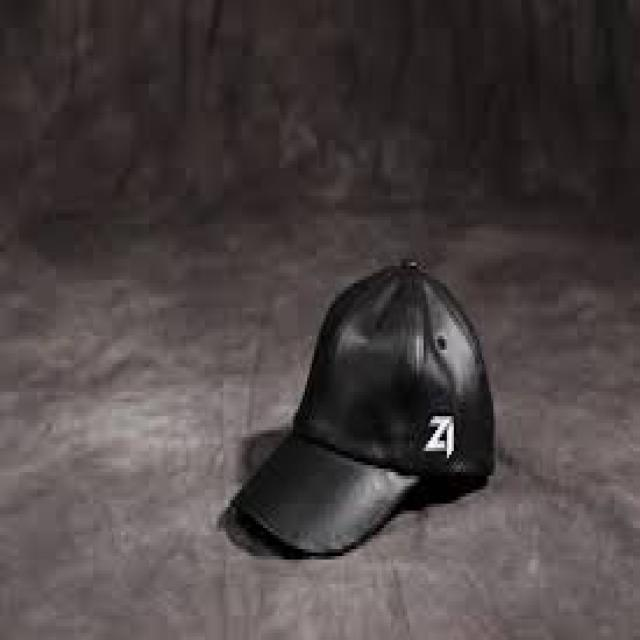cap: (212, 236, 517, 584)
